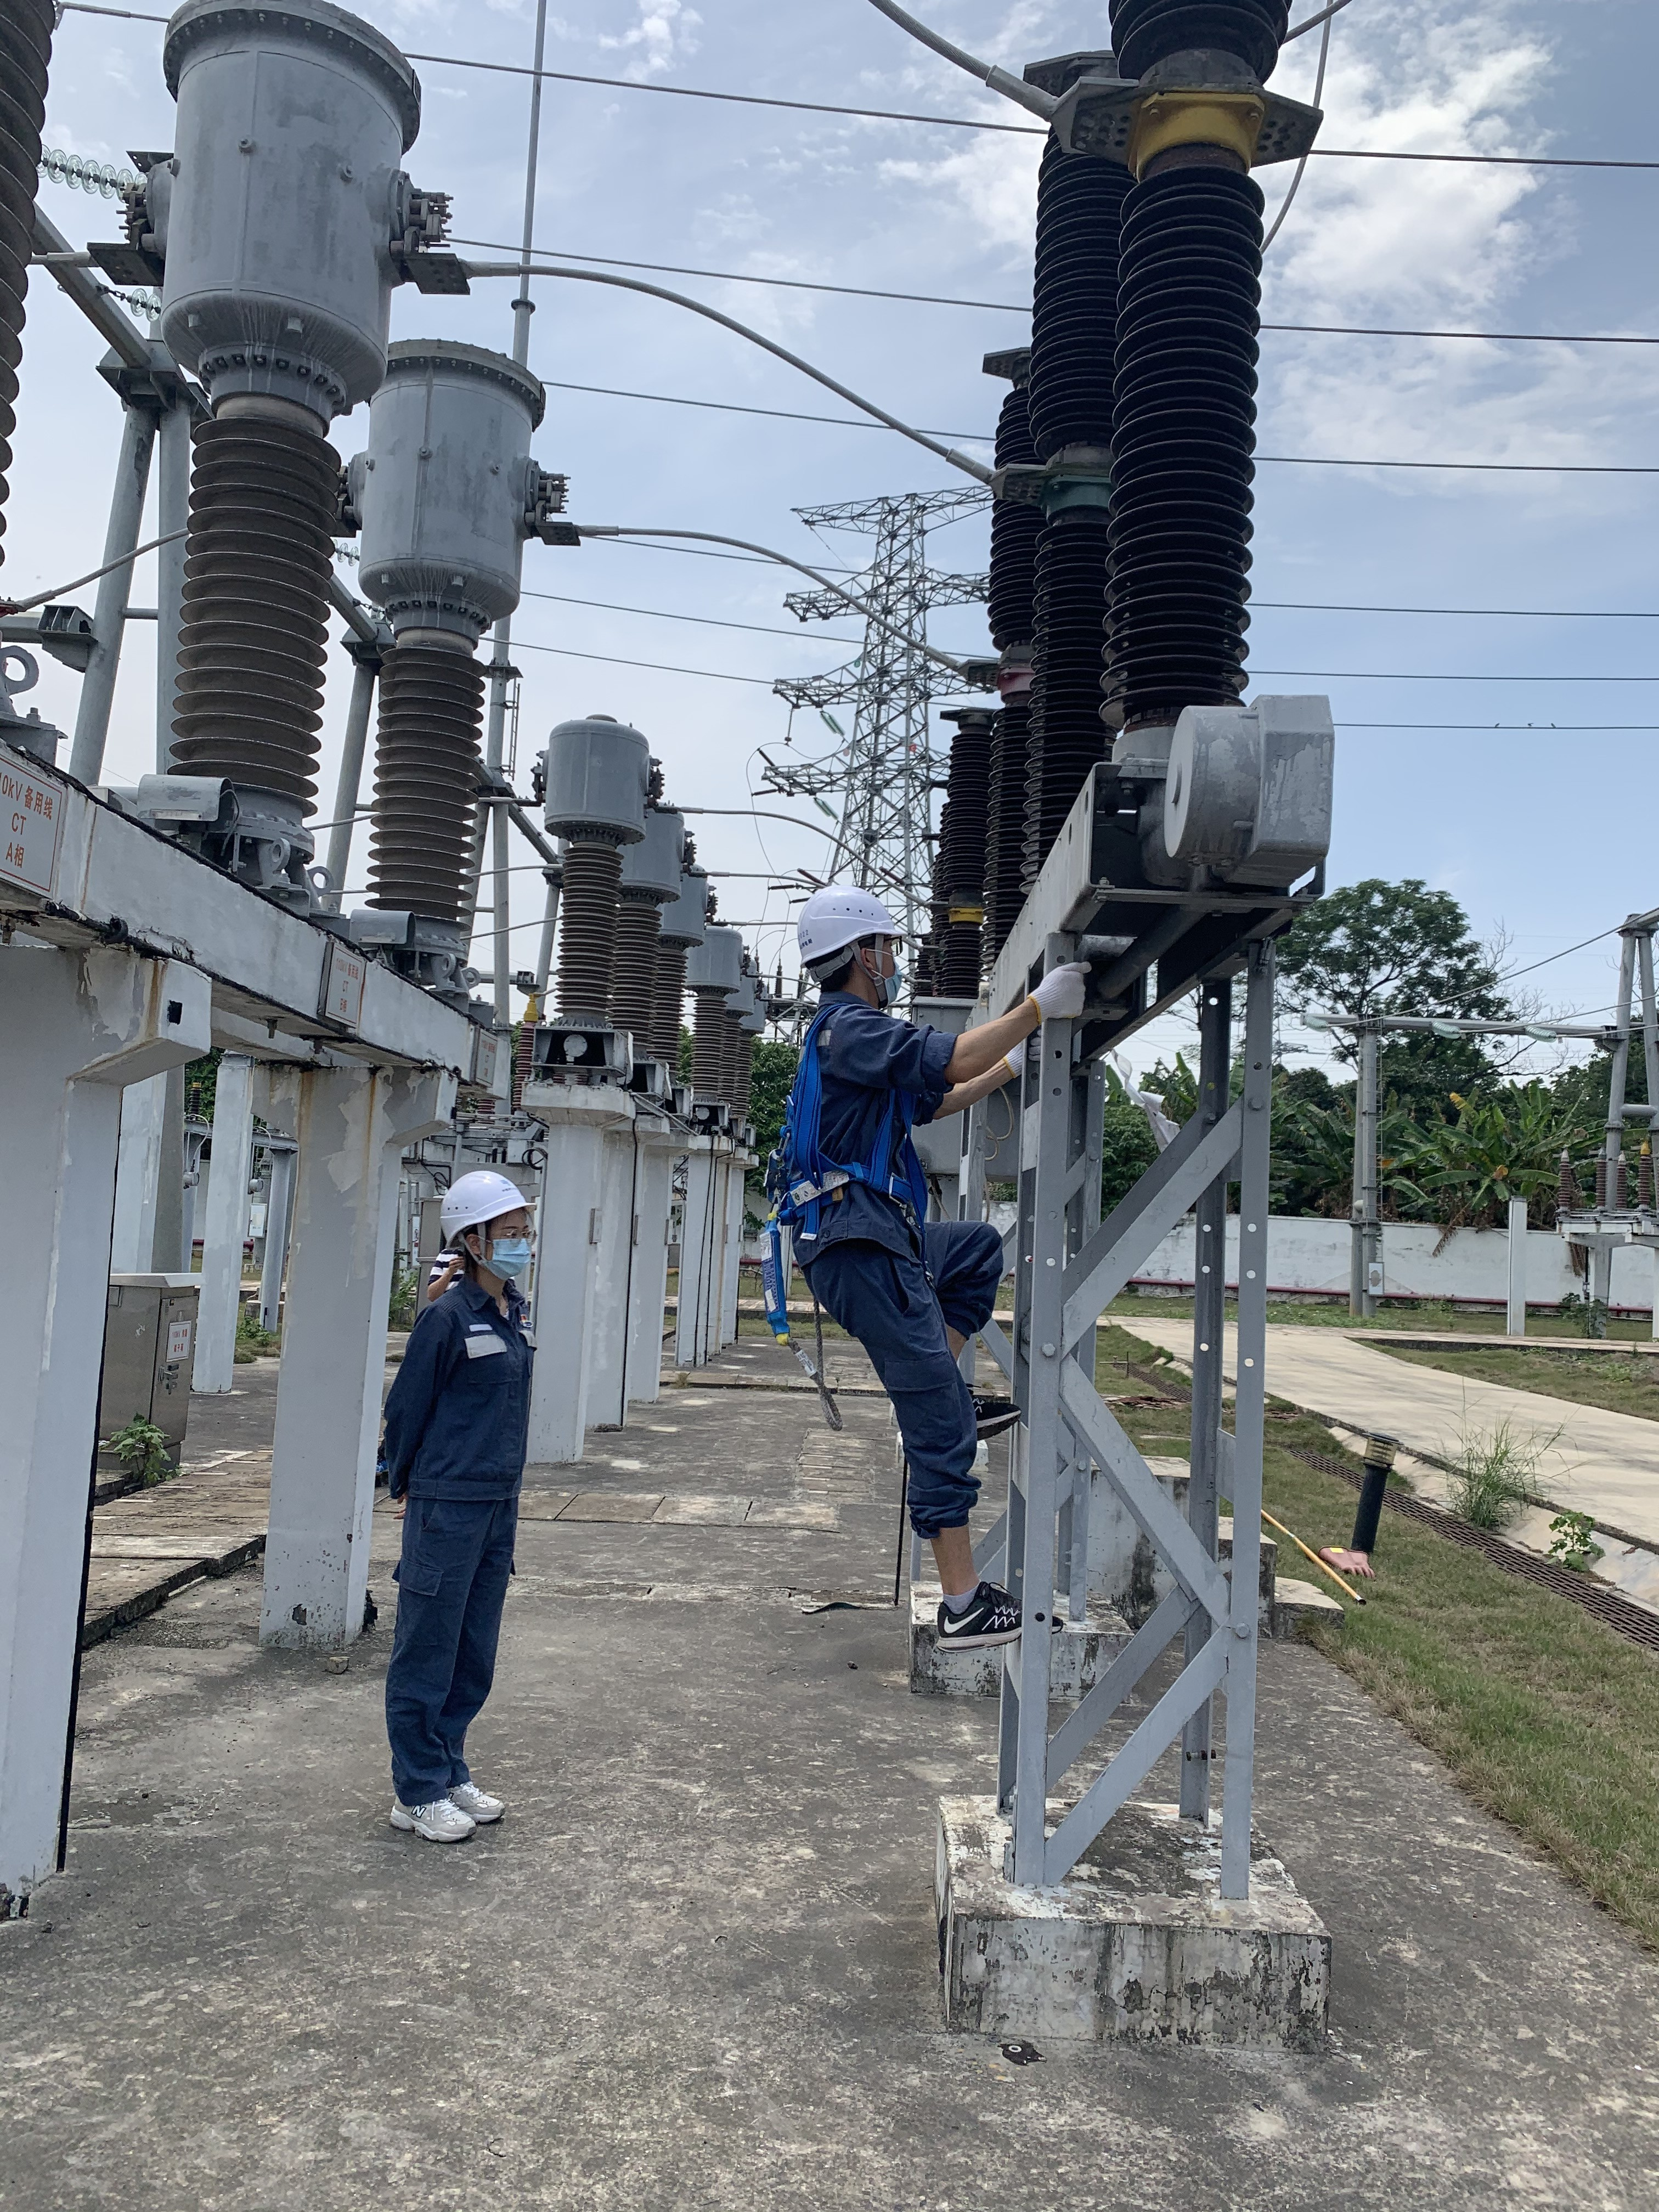downsuit: (789, 1226, 1011, 1527), (376, 1514, 526, 1792)
upsuit: (763, 993, 995, 1211), (389, 1287, 535, 1480)
wrongbottom: (913, 1489, 995, 1620)
wrongtop: (938, 982, 1070, 1115)
